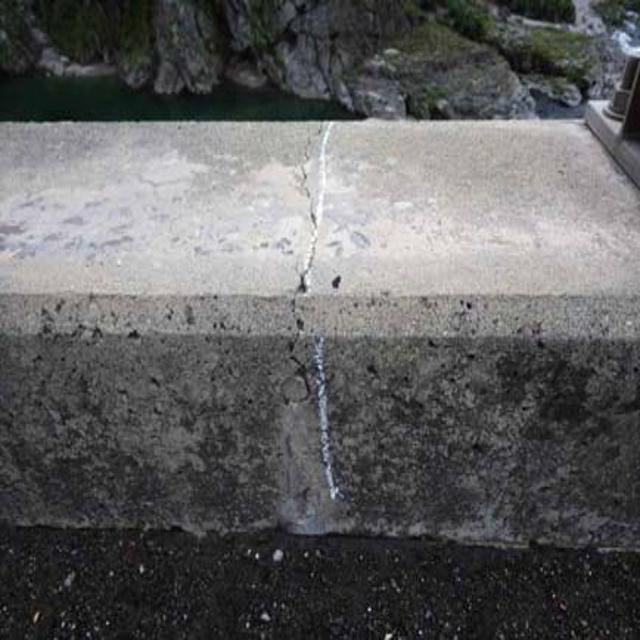crack: (283, 122, 341, 507)
